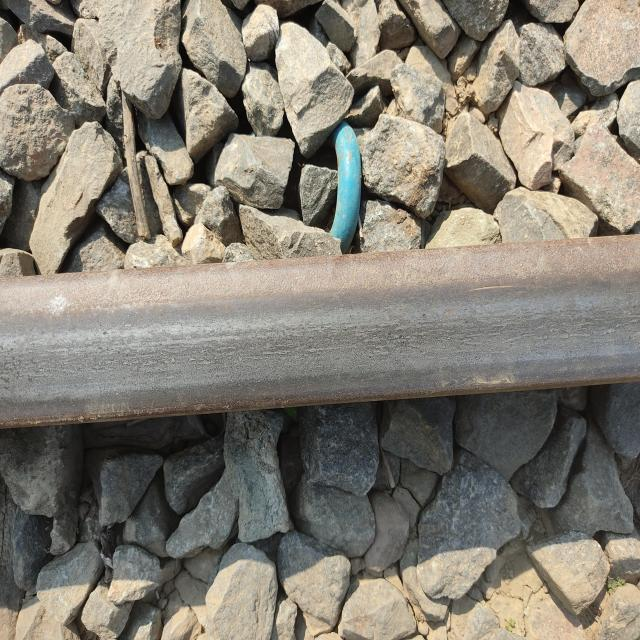broken_rail_medium: (442, 304, 459, 318)
